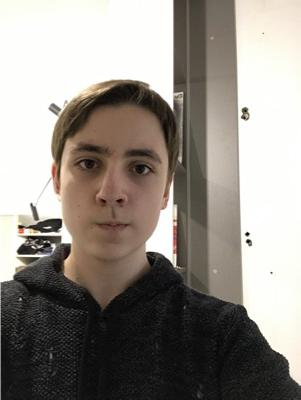without_mask: (60, 135, 166, 263)
